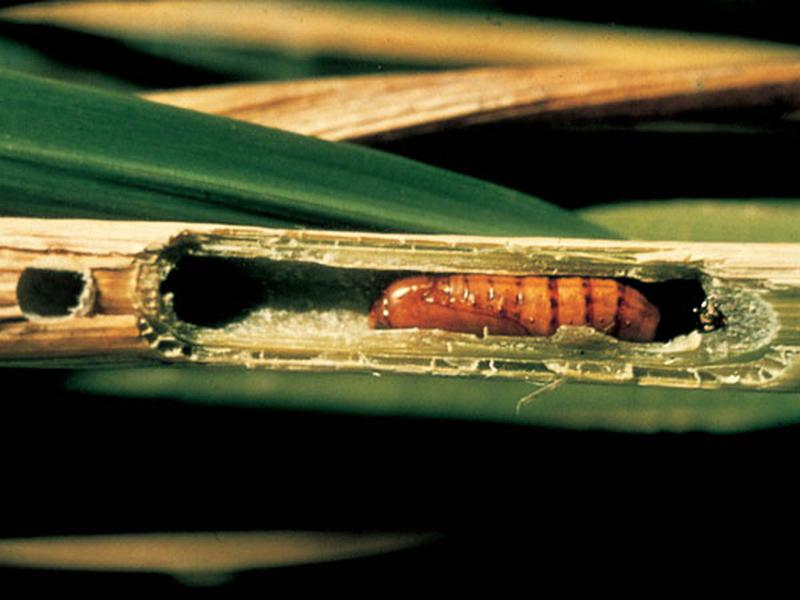Rice_skipper: (373, 257, 677, 359)
